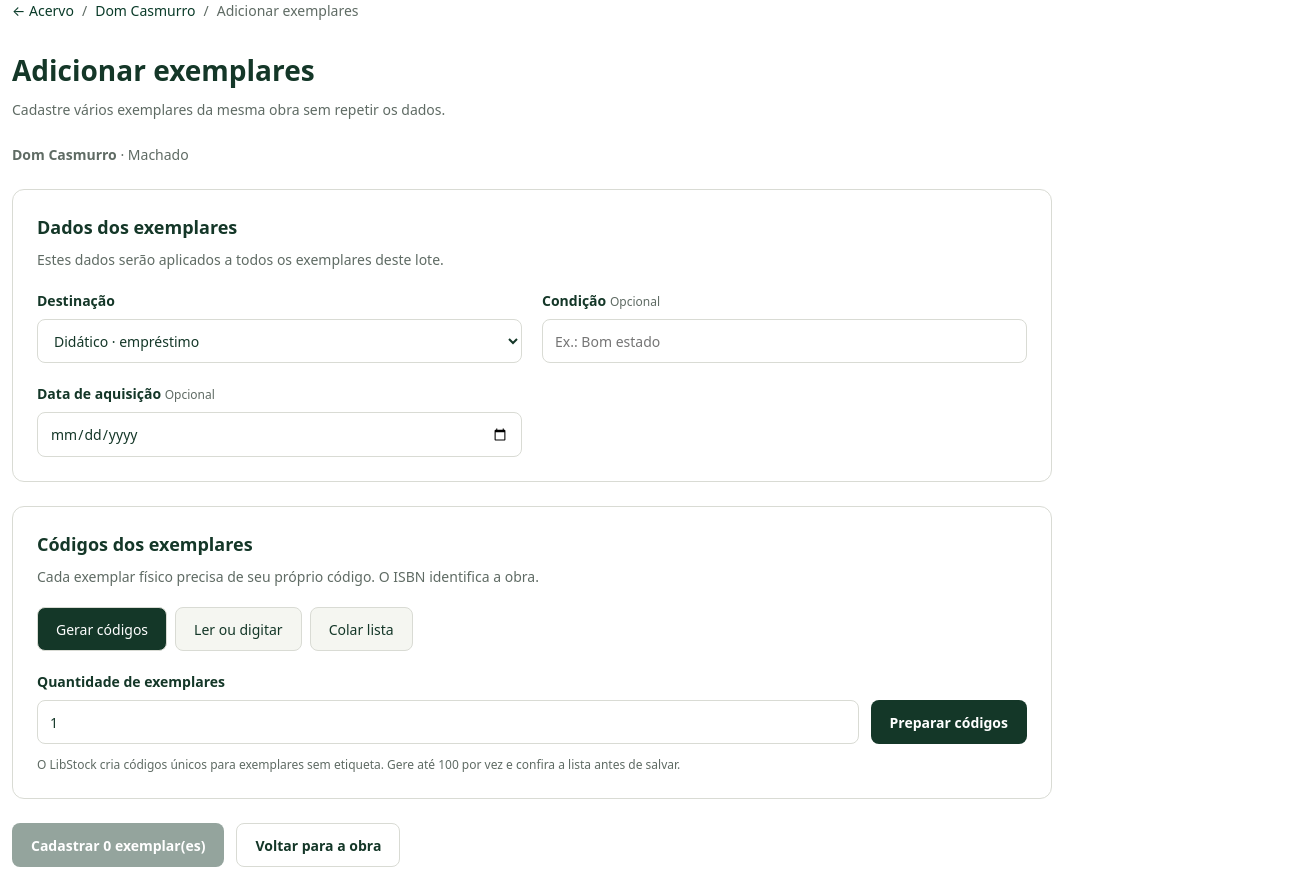
Cadastro de exemplares em lote › gera códigos únicos para a quantidade e envia uma transação de lote
Replace the text in the number field with id "batch-quantity" with "3": (448, 722) [37, 700, 858, 744]
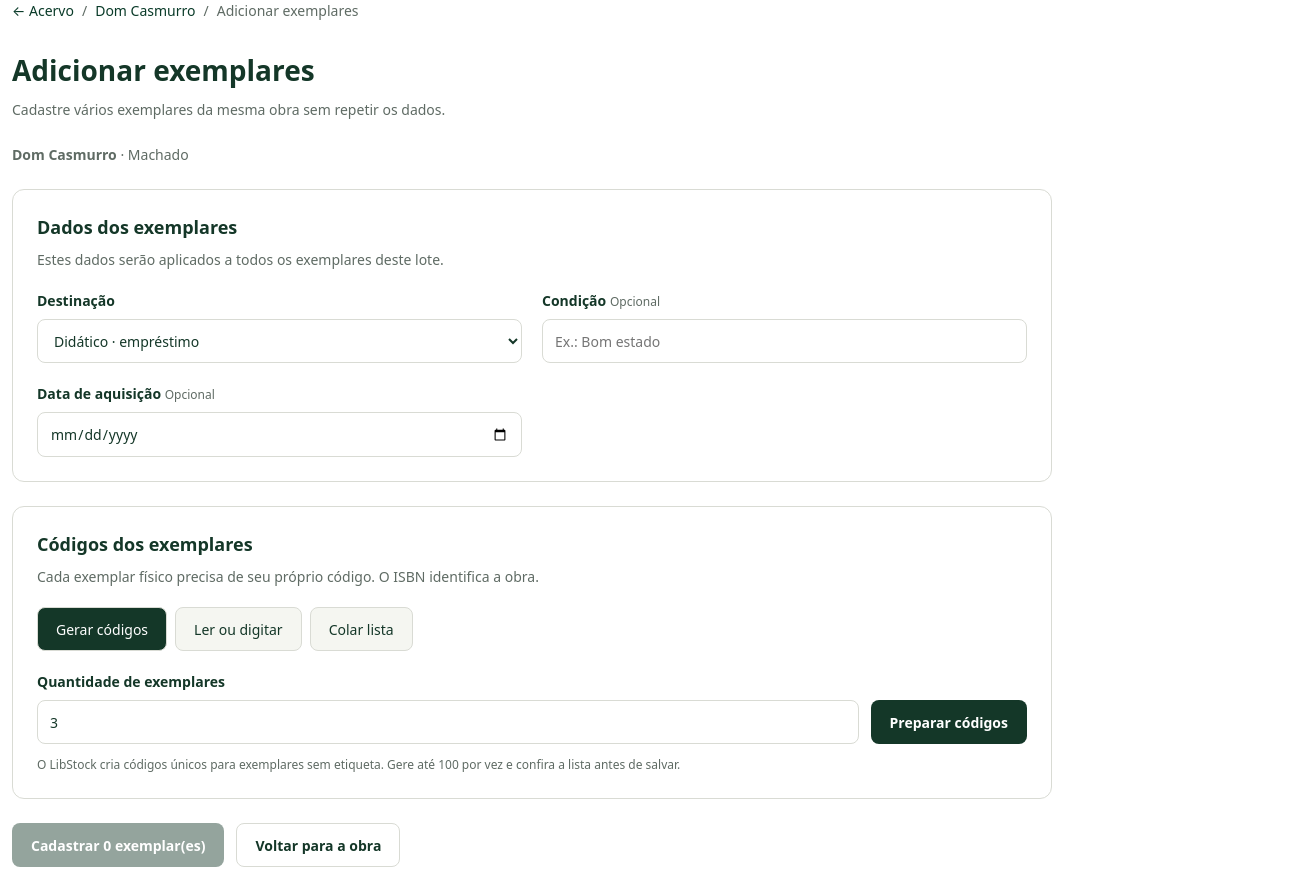
Click the button "Preparar códigos": (949, 722) [870, 700, 1027, 744]
(page scrolled)
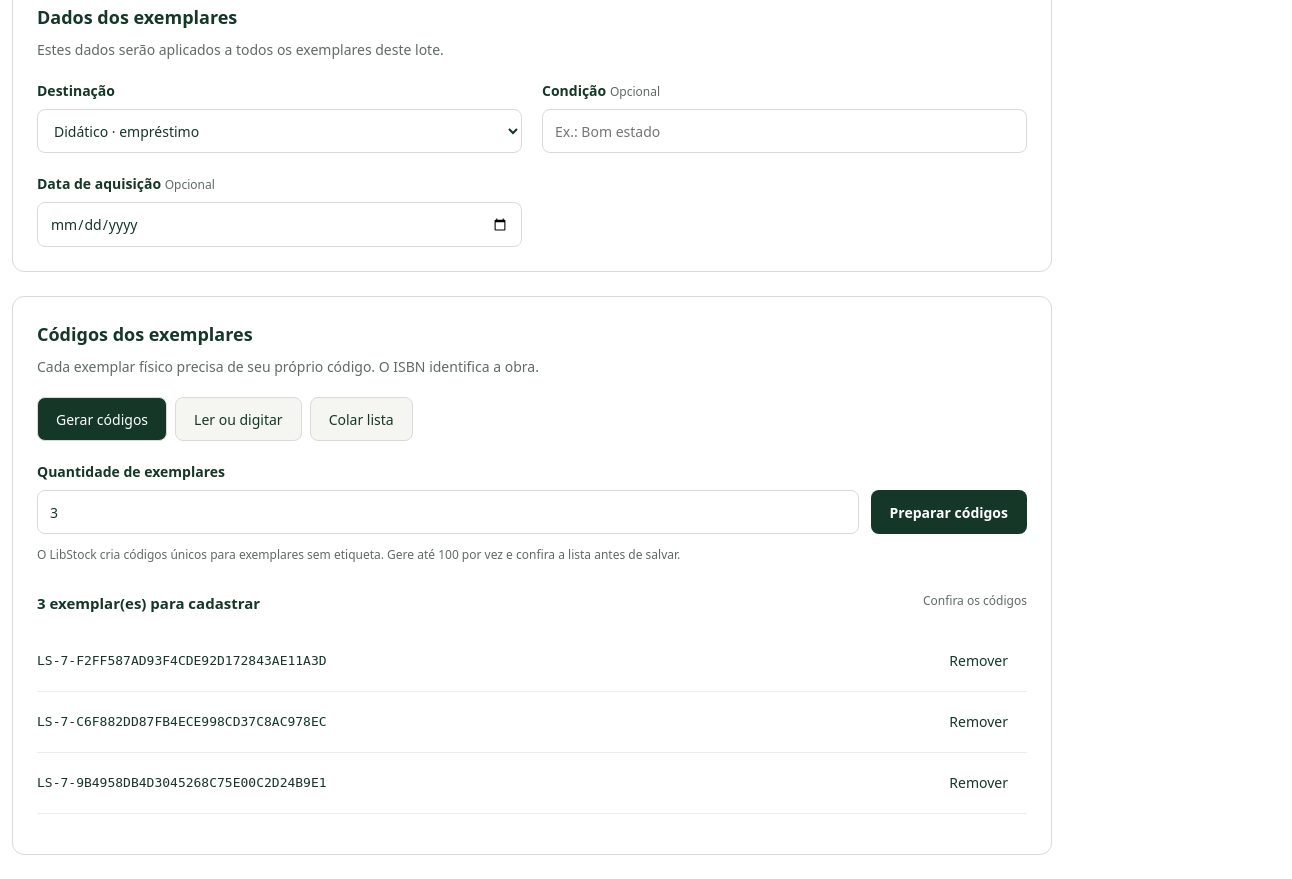
Check: the number of list items is 3, box [37, 630, 1027, 692]; [37, 692, 1027, 752]; [37, 752, 1027, 814]
Submit the form
(page scrolled)
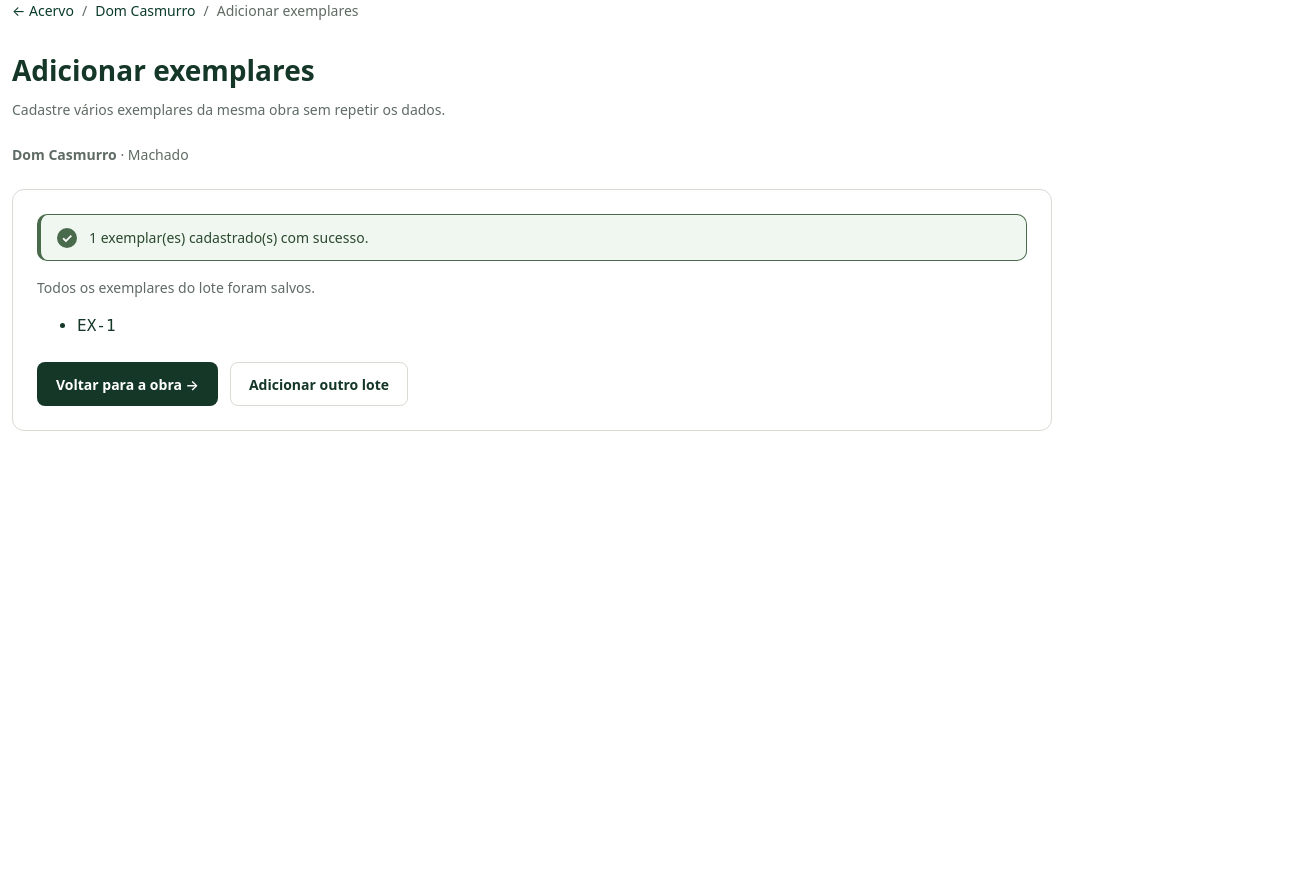
Check: the text "cadastrado(s) com sucesso" is shown, box [89, 228, 368, 247]
